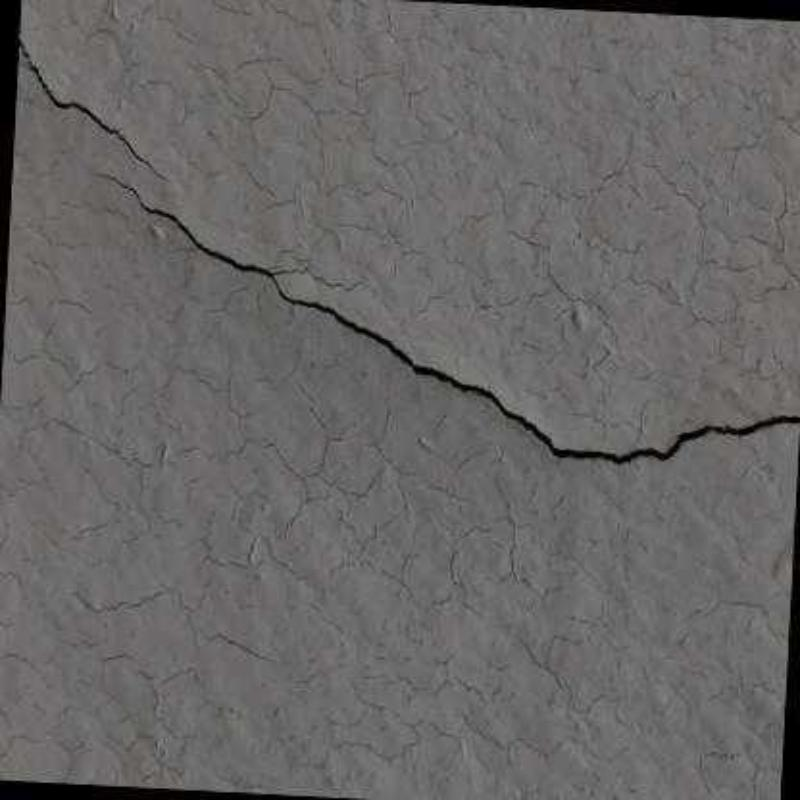pothole: (94, 172, 800, 468), (18, 37, 169, 181)
